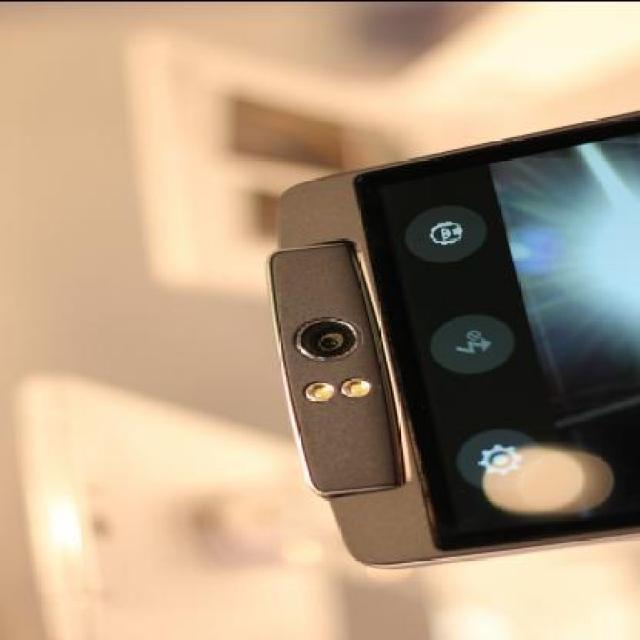phone: (269, 108, 640, 584)
